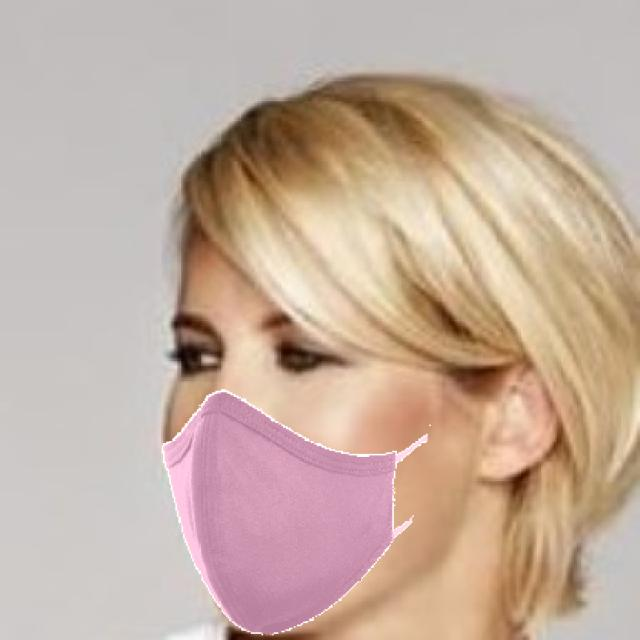mask: (127, 367, 447, 640)
